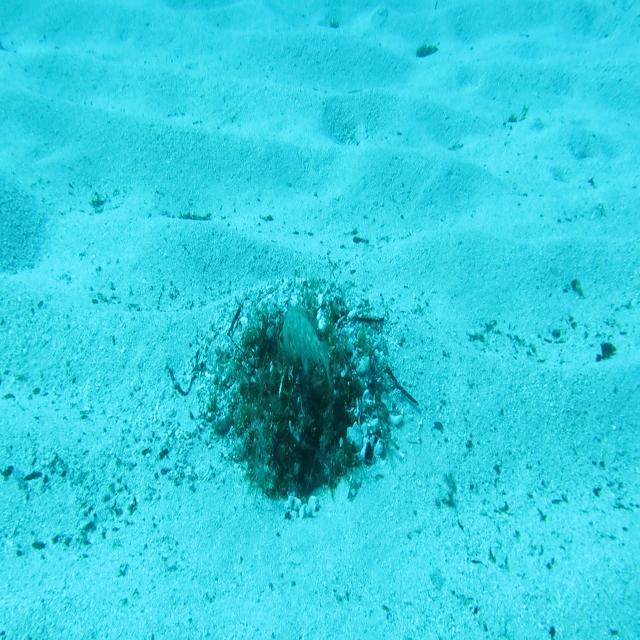NIP_CORE: (278, 300, 333, 390)
core_nest: (267, 331, 322, 372)
nest: (176, 263, 413, 527)
vegetation: (414, 40, 438, 60)
